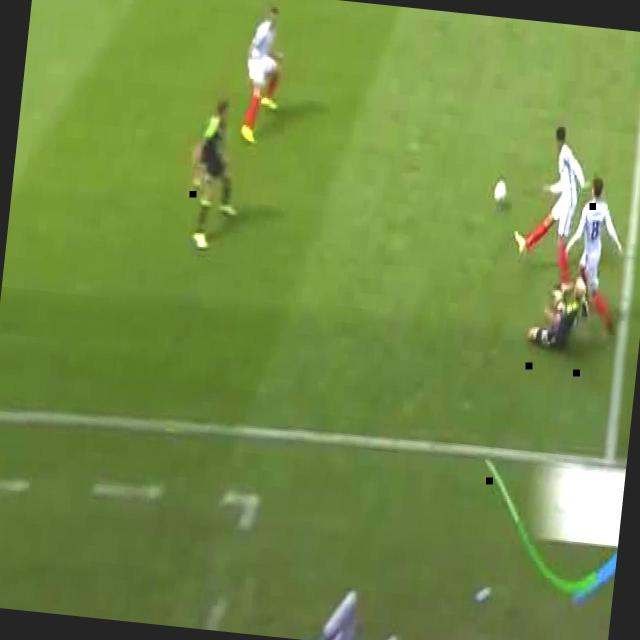ball: (493, 178, 509, 205)
player-white: (508, 117, 592, 294), (557, 173, 632, 333), (183, 96, 247, 254), (237, 6, 287, 152), (527, 274, 588, 354)
